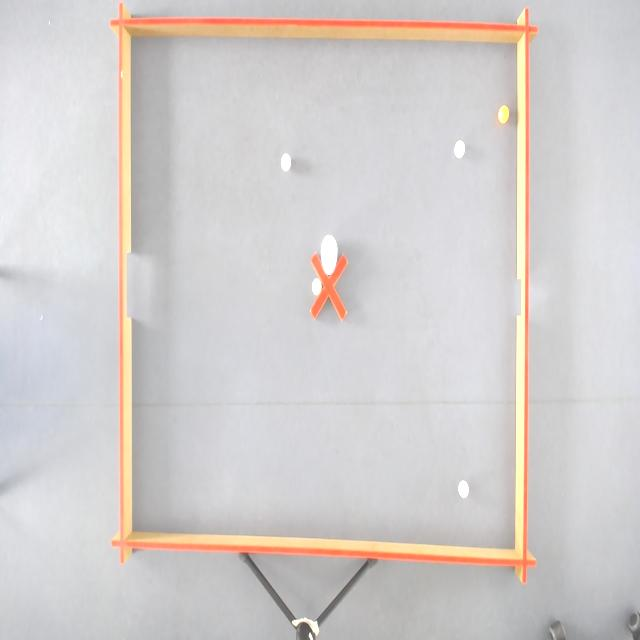cross: (309, 249, 349, 324)
egg: (319, 231, 339, 279)
orange_ball: (498, 104, 510, 124)
white_ball: (279, 150, 292, 173), (457, 478, 470, 501), (453, 138, 466, 160), (311, 276, 323, 297)
